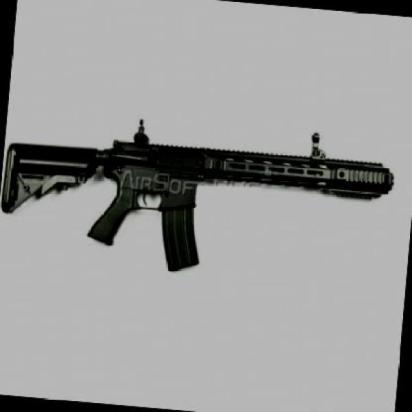Gun: (0, 109, 394, 313)
